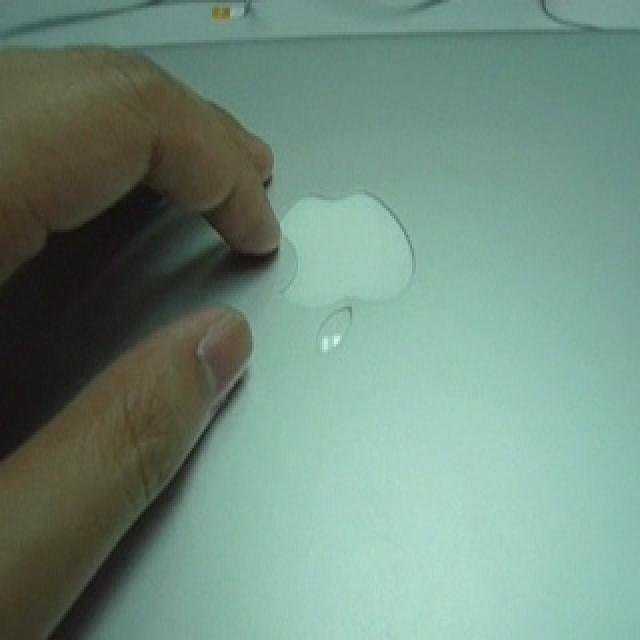apple: (271, 180, 423, 361)
